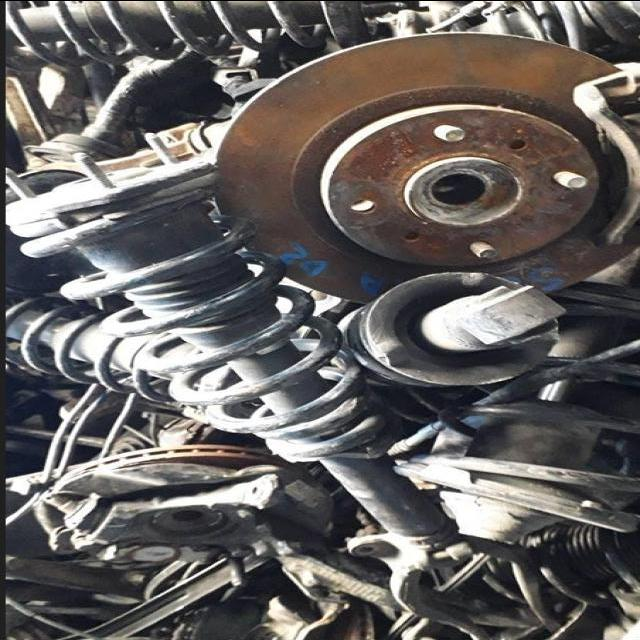shock absorber: (4, 132, 462, 550), (5, 1, 407, 72)
